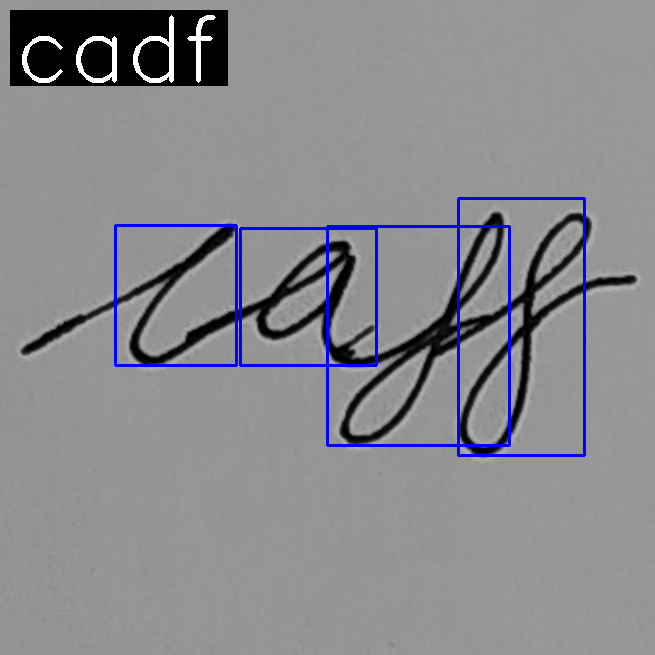a: (253, 237, 360, 344)
c: (127, 220, 239, 369)
f: (333, 208, 507, 449), (456, 211, 596, 459)
